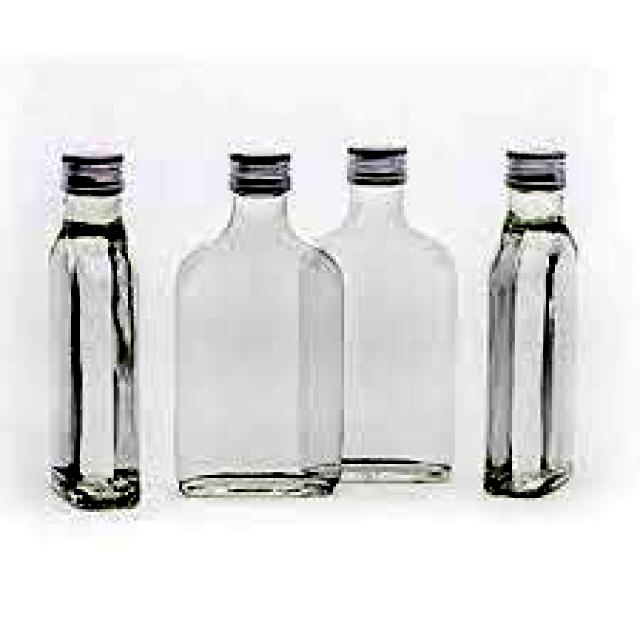Glass: (173, 143, 353, 502), (292, 134, 464, 490), (43, 144, 154, 511), (479, 146, 584, 497)
